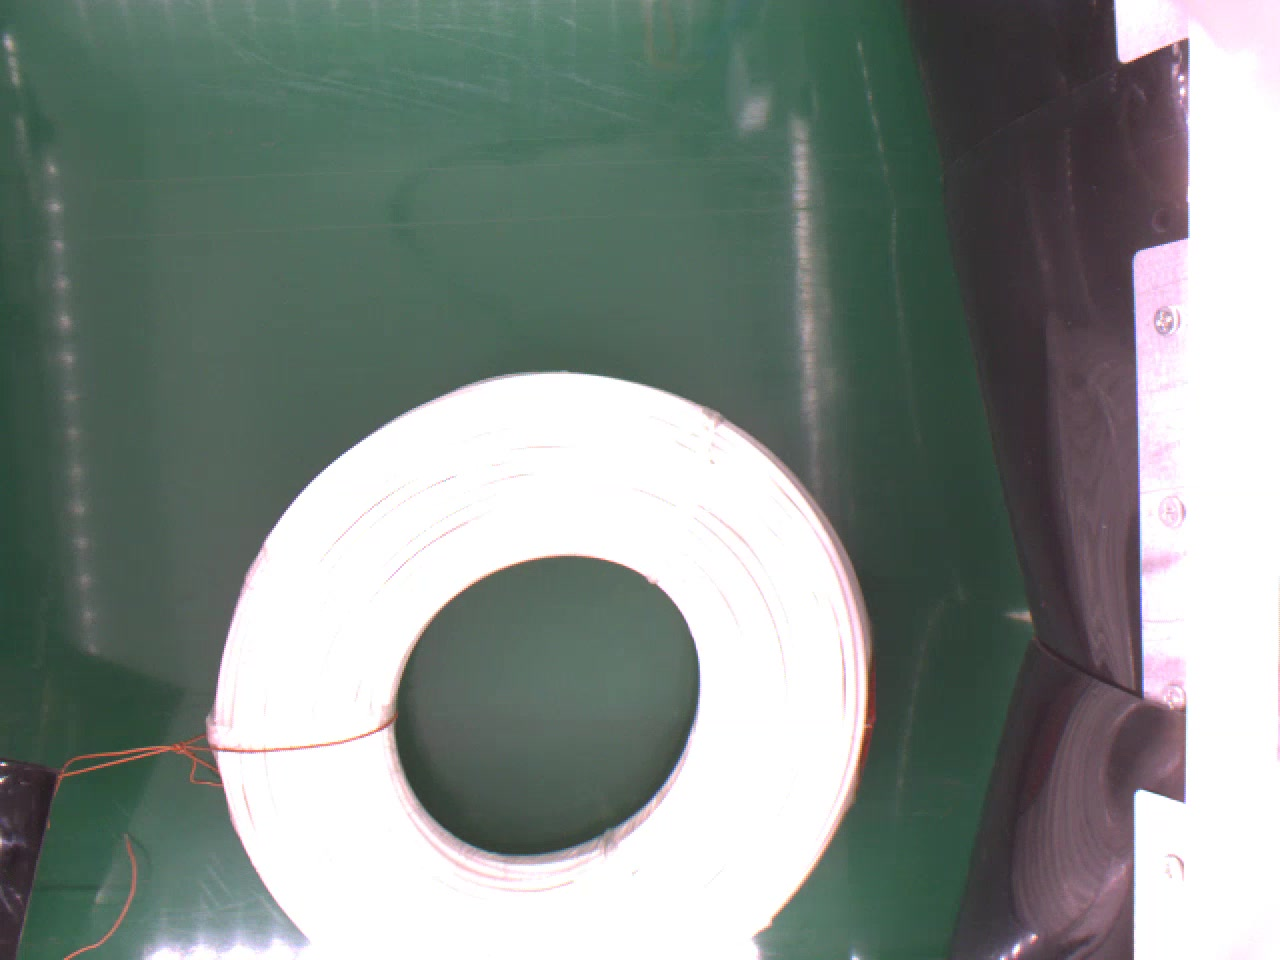white: (205, 364, 880, 960)
